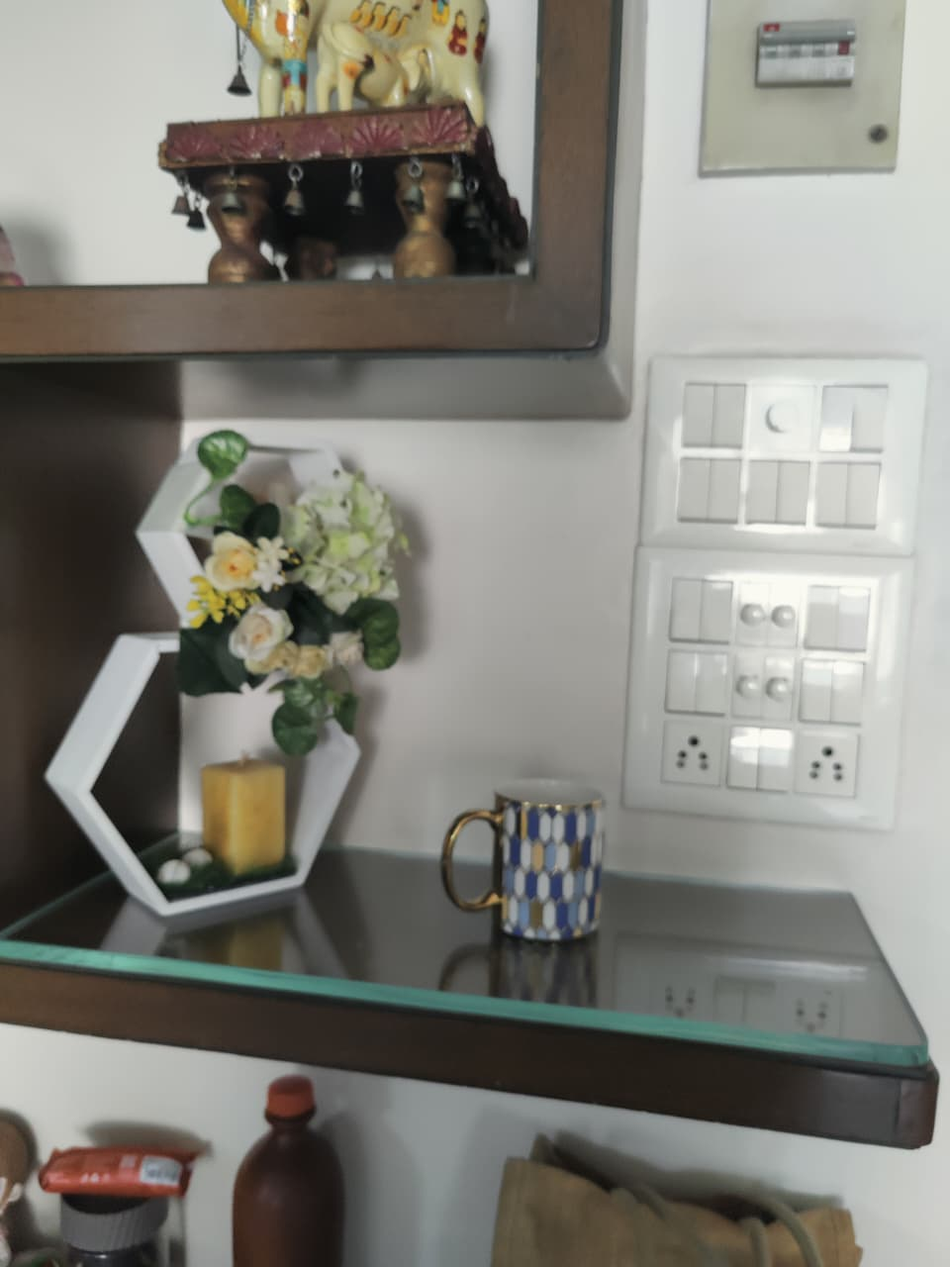cup: (441, 780, 605, 942)
